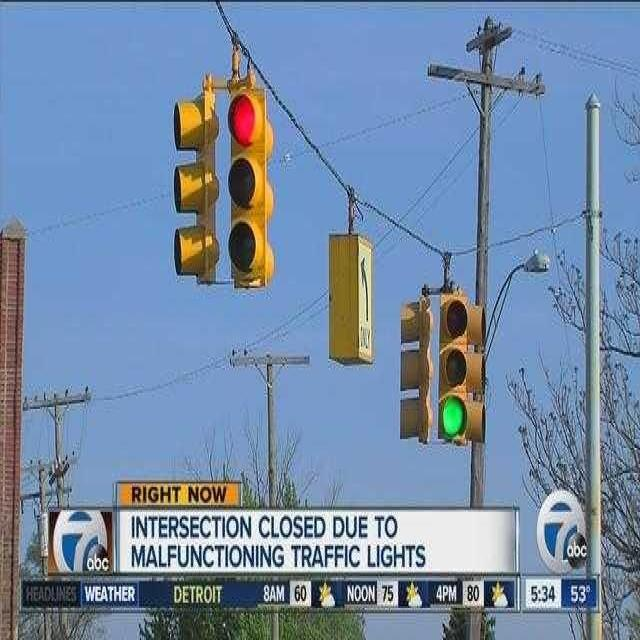Traffic Light -Green-: (436, 291, 472, 459)
Traffic Light -Red-: (220, 79, 270, 294)
